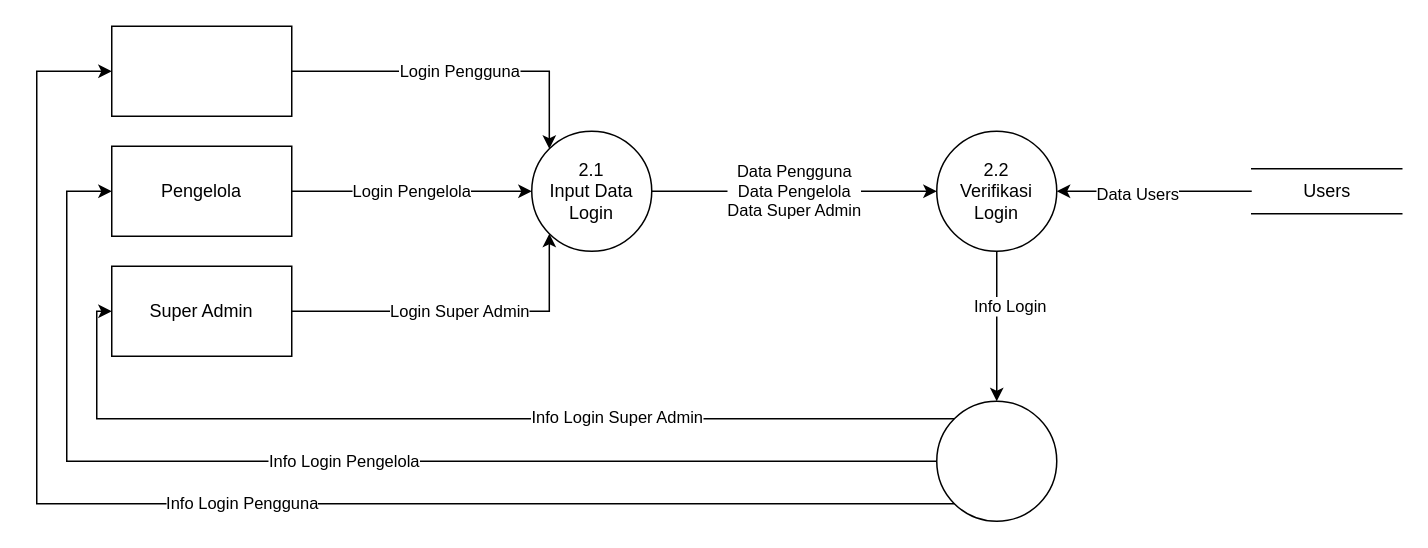
Image size: 1428x548. Some labels were removed from this diagram. The centre of each missing label's shape, as x and y in pixels:
2.3 Menampilkan Info Login: pixel 996 460
Pengguna: pixel 201 70
